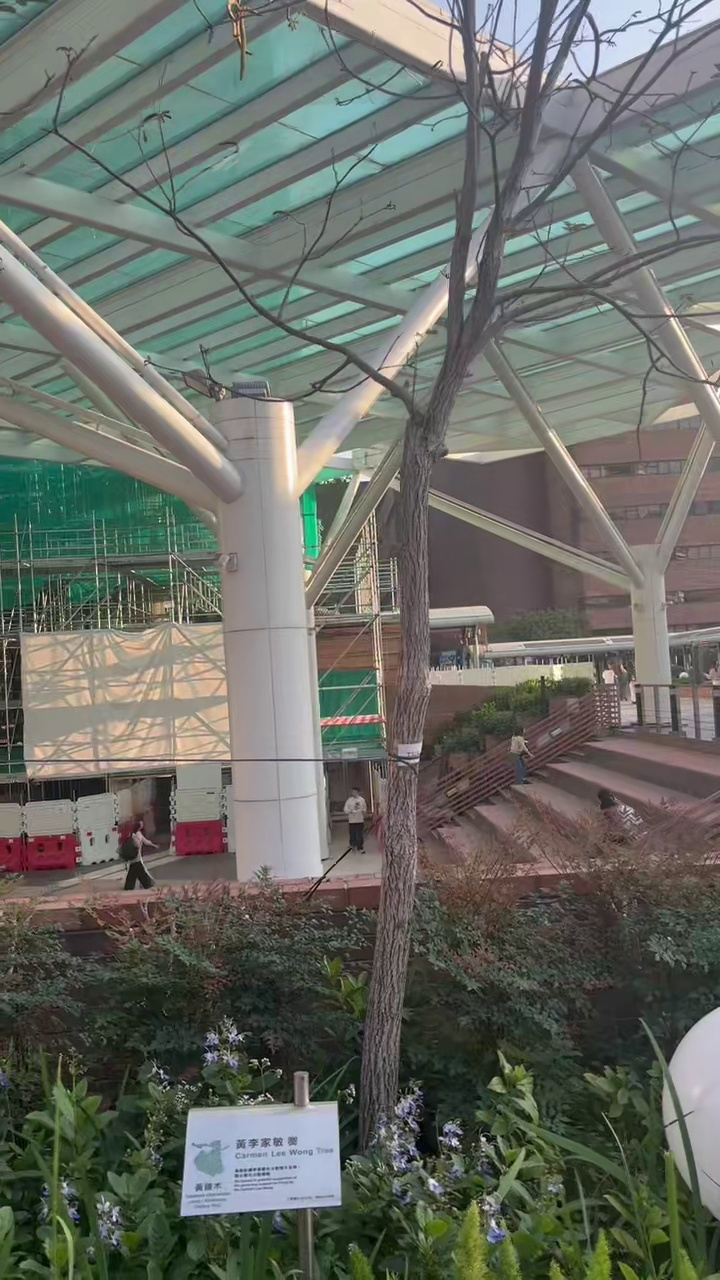Tabebuia chrysantha: (168, 0, 719, 1147)
